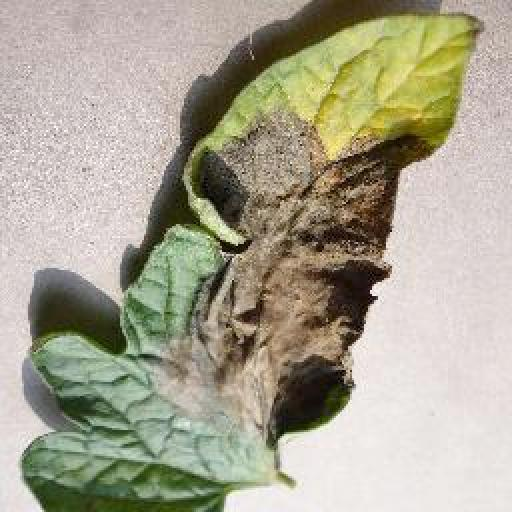disease_tomato: (20, 6, 486, 512)
